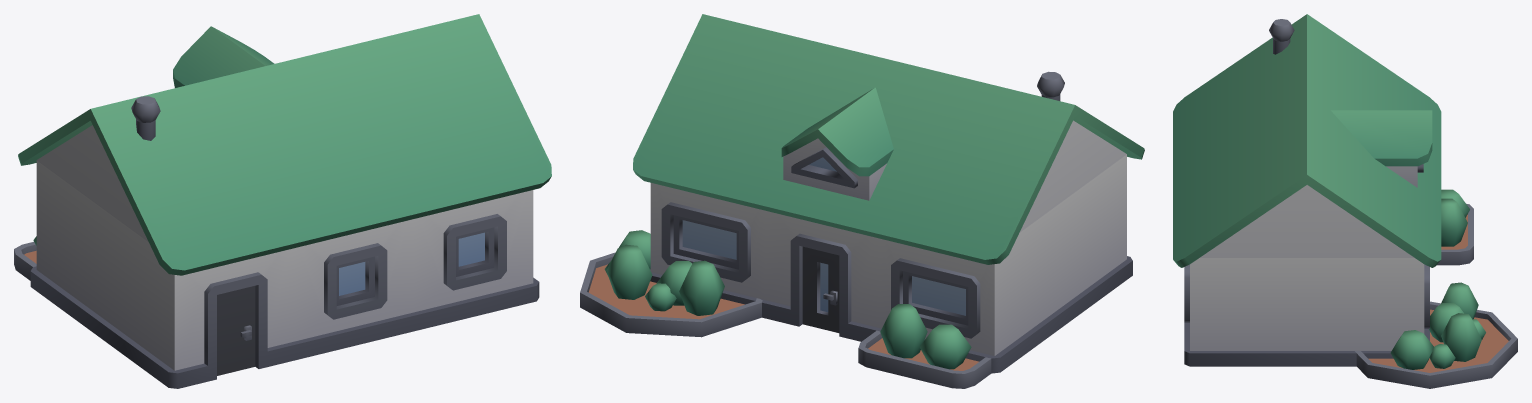
Rendered from house-03.glb.
3 views of the same model, side by side, from view 1: azimuth 30°, elevation 25°; view 2: azimuth 150°, elevation 25°; view 3: azimuth 270°, elevation 25° (orthographic). The views are drawn at different scales.
Visible parts, largest first — view 1: house-03; view 2: house-03; view 3: house-03.
Part boxes in pixels (x1=…): house-03: x1=14, y1=14, x2=551, y2=388; house-03: x1=580, y1=14, x2=1144, y2=388; house-03: x1=1173, y1=14, x2=1517, y2=388.
Size of the model in its own units: 1 by 0.5298 by 0.8124.
